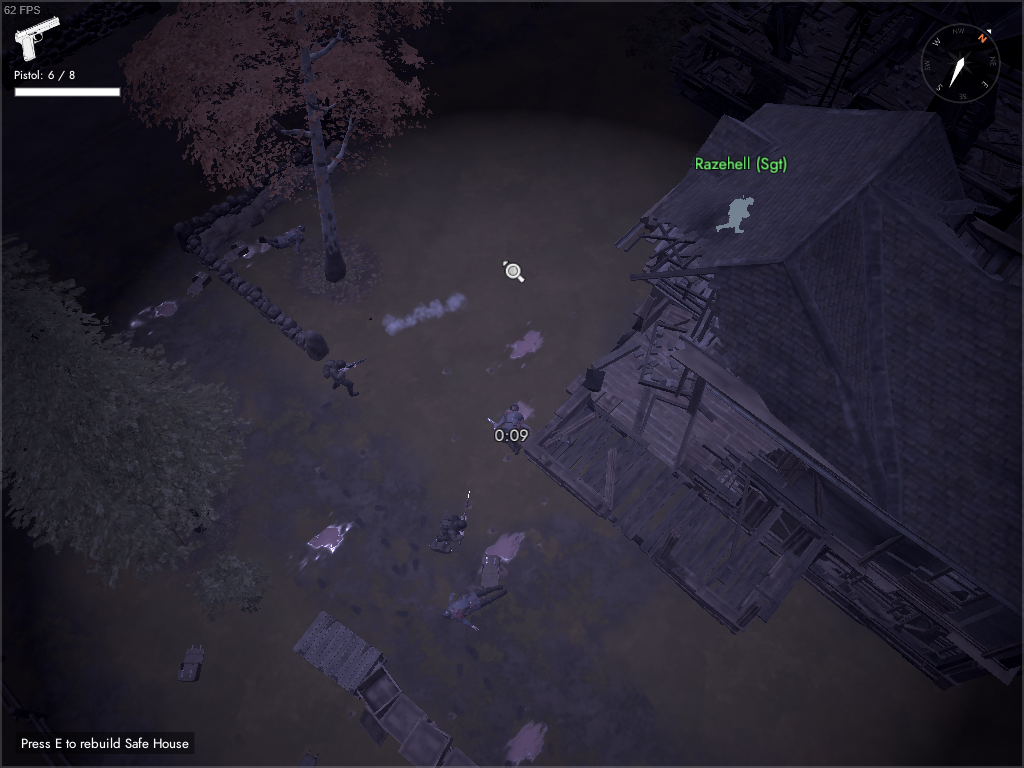backpack: (175, 641, 207, 685), (475, 552, 506, 591), (219, 239, 252, 270), (183, 270, 215, 300), (292, 747, 321, 768)
colonial: (428, 487, 477, 558), (318, 353, 368, 399)
dead_player: (440, 577, 512, 635), (482, 396, 532, 459), (255, 219, 309, 257)
player: (712, 189, 758, 237)
